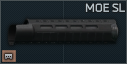AR-15 Magpul MOE SL mid length M-LOK handguard: (0, 0, 127, 64)
